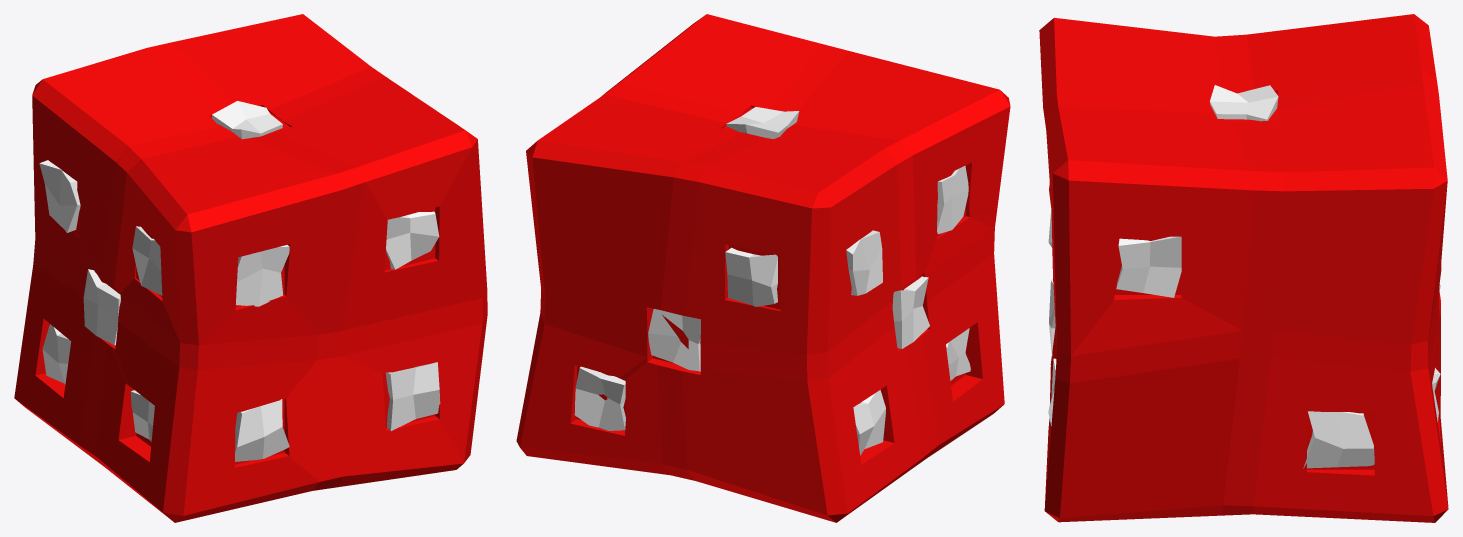
Rendered from 7_dice_red_ugly.gltf.
3 views of the same model, side by side, from view 1: azimuth 30°, elevation 25°; view 2: azimuth 150°, elevation 25°; view 3: azimuth 270°, elevation 25° (orthographic). The views are drawn at different scales.
Visible parts, largest first — view 1: D6_Dice_Red; view 2: D6_Dice_Red; view 3: D6_Dice_Red.
Part boxes in pixels (x1=…): D6_Dice_Red: x1=14, y1=14, x2=487, y2=522; D6_Dice_Red: x1=516, y1=14, x2=1010, y2=522; D6_Dice_Red: x1=1039, y1=14, x2=1448, y2=522.
Size of the model in its own units: 2.15 by 2.17 by 2.12.
